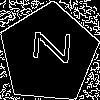Z: (24, 29, 70, 64)
